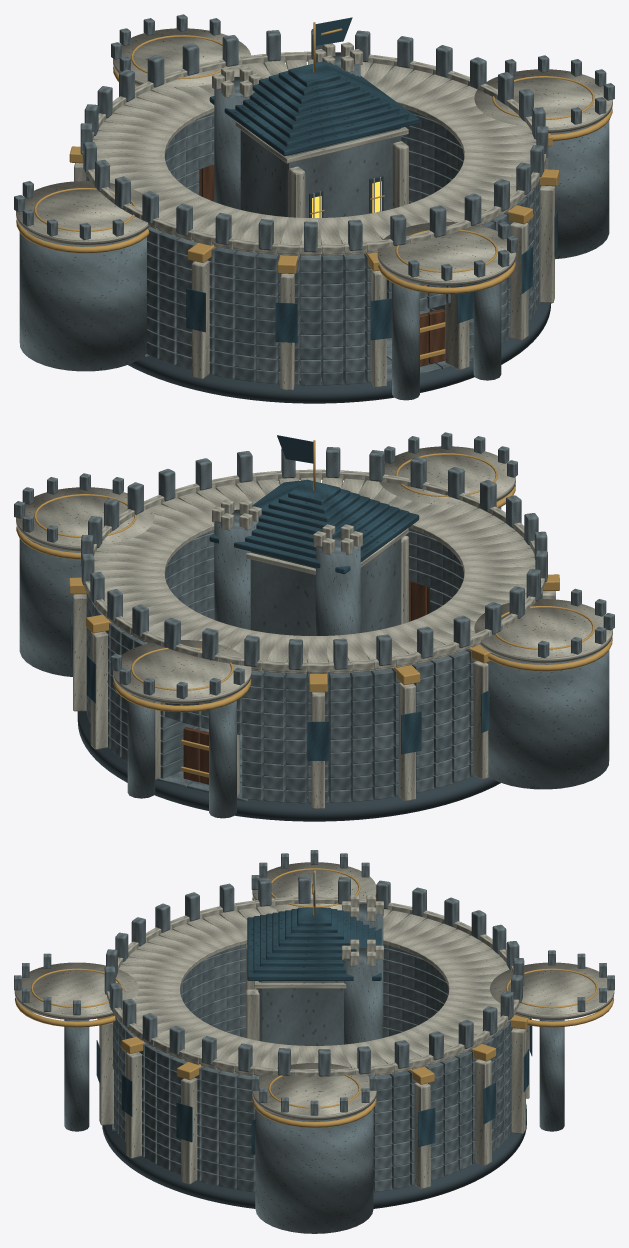
The model's file is castle-3.glb.
The picture shows the model from 3 angles, top to bottom: view 1: azimuth 30°, elevation 25°; view 2: azimuth 150°, elevation 25°; view 3: azimuth 270°, elevation 25°; orthographic projection. The views are drawn at different scales.
Parts seen in each view (by area): view 1: Bastion_3_Weathered castle stone 1.002, SouthWall_Carved limestone.002, RoyalKeep_Blue slate.002, EastWall_Carved limestone.002, WestWall_Carved limestone.002, RoyalKeep_Weathered castle stone 2.002, SouthWall_Weathered castle stone 2.002, CastleBase_Masonry recess.002, Bastion_1_Weathered castle stone 1.002, NorthWall_Carved limestone.002, Bastion_2_Weathered castle stone 1.002, SouthWall_Weathered castle stone 3.002 (+30 smaller); view 2: Bastion_3_Weathered castle stone 1.002, NorthWall_Carved limestone.002, WestWall_Carved limestone.002, EastWall_Carved limestone.002, RoyalKeep_Blue slate.002, NorthWall_Weathered castle stone 2.002, RoyalKeep_Weathered castle stone 2.002, RoyalKeep_Weathered castle stone 1.002, SouthWall_Carved limestone.002, CastleBase_Masonry recess.002, Bastion_1_Weathered castle stone 1.002, NorthWall_Weathered castle stone 0.002 (+33 smaller); view 3: Bastion_1_Weathered castle stone 1.002, NorthWall_Carved limestone.002, SouthWall_Carved limestone.002, EastWall_Carved limestone.002, RoyalKeep_Blue slate.002, EastWall_Weathered castle stone 2.002, WestWall_Carved limestone.002, CastleBase_Masonry recess.002, WestWall_Weathered castle stone 2.002, RoyalKeep_Weathered castle stone 2.002, Bastion_0_Carved limestone.002, EastWall_Weathered castle stone 3.002 (+32 smaller).
Part boxes in pixels (x1,y1,x2,y2): Bastion_3_Weathered castle stone 1.002: (19, 232, 146, 371); SouthWall_Carved limestone.002: (254, 170, 538, 390); RoyalKeep_Blue slate.002: (209, 17, 419, 156); EastWall_Carved limestone.002: (363, 55, 554, 303); WestWall_Carved limestone.002: (74, 130, 273, 379); RoyalKeep_Weathered castle stone 2.002: (240, 128, 401, 217); SouthWall_Weathered castle stone 2.002: (256, 162, 534, 383); CastleBase_Masonry recess.002: (128, 302, 551, 403); Bastion_1_Weathered castle stone 1.002: (548, 120, 609, 259); NorthWall_Carved limestone.002: (98, 51, 374, 141); Bastion_2_Weathered castle stone 1.002: (392, 277, 501, 400); SouthWall_Weathered castle stone 3.002: (256, 202, 534, 384); Bastion_3_Weathered castle stone 1.002: (486, 650, 609, 789); NorthWall_Carved limestone.002: (90, 588, 374, 808); WestWall_Carved limestone.002: (355, 542, 555, 801); EastWall_Carved limestone.002: (73, 473, 265, 711); RoyalKeep_Blue slate.002: (209, 435, 419, 574); NorthWall_Weathered castle stone 2.002: (90, 572, 372, 803); RoyalKeep_Weathered castle stone 2.002: (250, 538, 401, 635); RoyalKeep_Weathered castle stone 1.002: (214, 509, 360, 635); SouthWall_Carved limestone.002: (254, 469, 534, 559); CastleBase_Masonry recess.002: (77, 711, 500, 821); Bastion_1_Weathered castle stone 1.002: (19, 538, 81, 676); NorthWall_Weathered castle stone 0.002: (108, 632, 372, 790); Bastion_1_Weathered castle stone 1.002: (255, 1109, 373, 1233); NorthWall_Carved limestone.002: (409, 922, 529, 1165); SouthWall_Carved limestone.002: (99, 923, 219, 1158); EastWall_Carved limestone.002: (167, 1029, 461, 1189); RoyalKeep_Blue slate.002: (247, 872, 381, 980); EastWall_Weathered castle stone 2.002: (169, 1026, 458, 1192); WestWall_Carved limestone.002: (170, 896, 461, 952); CastleBase_Masonry recess.002: (102, 1104, 526, 1208); WestWall_Weathered castle stone 2.002: (185, 876, 459, 1036); RoyalKeep_Weathered castle stone 2.002: (258, 981, 343, 1045); Bastion_0_Carved limestone.002: (490, 962, 614, 1019); EastWall_Weathered castle stone 3.002: (170, 1057, 458, 1185).
Size of the model in its own units: 19.23 by 8.9 by 19.23.
Materials: 10 (7 with a texture image).
